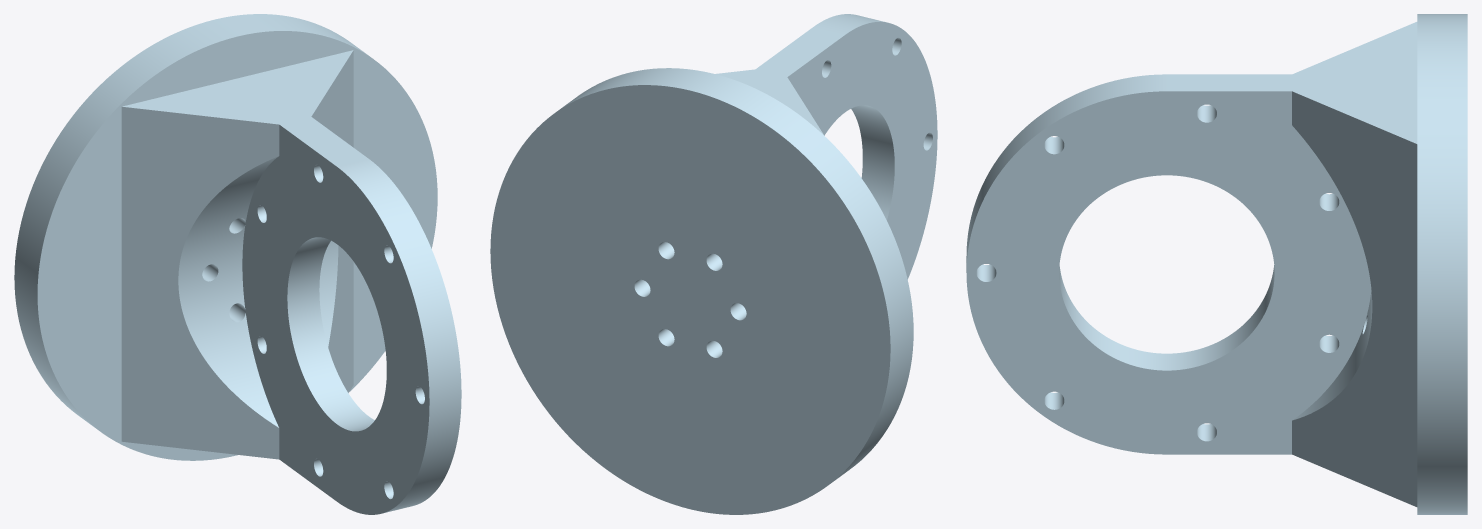
3 renders of one model, left to right at view 1: azimuth 30°, elevation 25°; view 2: azimuth 150°, elevation 25°; view 3: azimuth 270°, elevation 25°, orthographic. The views are drawn at different scales.
Visible parts, largest first — view 1: mesh1040, mesh1038, mesh1039, mesh1041, mesh1047, mesh1027, mesh1037, mesh1025, mesh1035, mesh1042; view 2: mesh1046, mesh1038, mesh1041, mesh1037, mesh1025, mesh1027; view 3: mesh1026, mesh1035, mesh1041, mesh1037, mesh1025, mesh1027, mesh1042.
Boxes of the visible parts, x1,y1,x2,y2 form: mesh1040: (37, 31, 437, 460); mesh1038: (242, 125, 429, 514); mesh1039: (121, 106, 279, 459); mesh1041: (14, 14, 369, 429); mesh1047: (178, 156, 278, 427); mesh1027: (337, 159, 461, 512); mesh1037: (122, 50, 368, 166); mesh1025: (287, 237, 374, 431); mesh1035: (311, 50, 353, 392); mesh1042: (319, 240, 338, 346); mesh1046: (490, 85, 890, 514); mesh1038: (787, 21, 937, 279); mesh1041: (558, 68, 913, 483); mesh1037: (715, 27, 844, 135); mesh1025: (851, 105, 894, 220); mesh1027: (813, 14, 885, 34); mesh1026: (966, 91, 1371, 454); mesh1035: (1292, 91, 1417, 506); mesh1041: (1417, 14, 1467, 514); mesh1037: (1167, 22, 1417, 143); mesh1025: (1059, 265, 1274, 370); mesh1027: (966, 74, 1166, 272); mesh1042: (1293, 290, 1372, 419).
Bounding box in the file's own units: 0.1 × 0.1 × 0.1.
